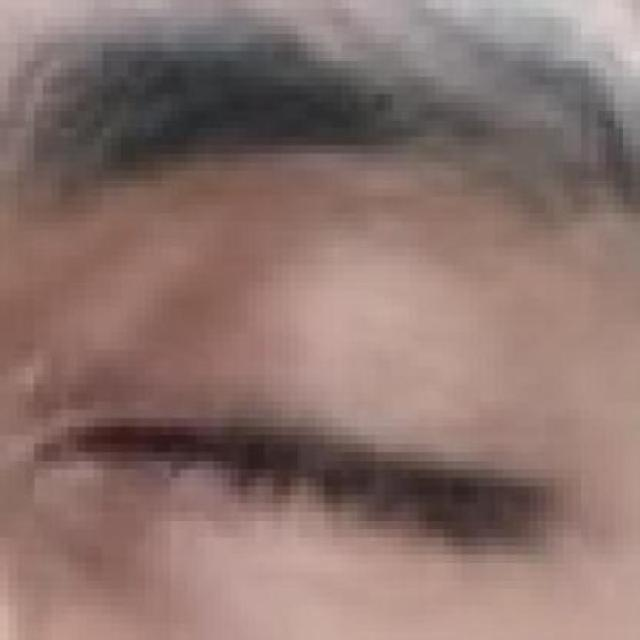drowsy: (46, 340, 548, 640)
